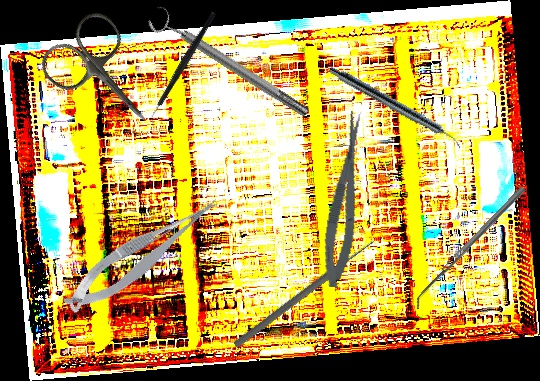Chopper: (119, 10, 248, 129)
Fixation Ring: (144, 2, 315, 127)
Handpiece: (326, 64, 466, 150)
Iris Scissors: (33, 4, 177, 151)
Micro Scissor: (53, 192, 233, 319), (317, 109, 374, 290)
Pusher: (232, 237, 377, 350)
Spatula Surgical: (410, 186, 530, 310)
